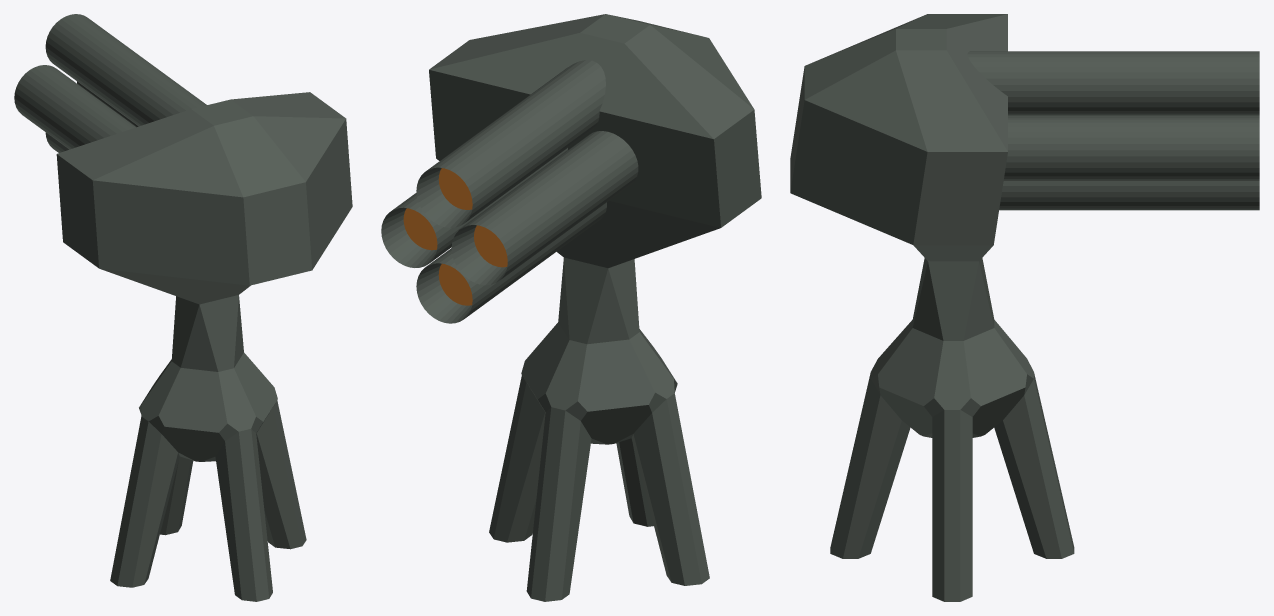
File: Turret2.fbx
3 views of the same model, side by side, from view 1: azimuth 30°, elevation 25°; view 2: azimuth 150°, elevation 25°; view 3: azimuth 270°, elevation 25° (orthographic). The views are drawn at different scales.
Parts seen in each view (by area): view 1: Cube.003, Cube.002, Cube.001; view 2: Cube.003, Cube.002, Cube.001; view 3: Cube.003, Cube.001, Cube.002.
Part boxes in pixels (x1,y1,x2,y2): Cube.003: [56, 92, 352, 304]; Cube.002: [110, 295, 306, 601]; Cube.001: [14, 14, 206, 152]; Cube.003: [429, 14, 761, 268]; Cube.002: [489, 257, 709, 601]; Cube.001: [381, 60, 638, 323]; Cube.003: [790, 14, 1007, 261]; Cube.001: [967, 51, 1259, 210]; Cube.002: [830, 258, 1074, 601].
Bounding box in the file's own units: 203 × 350 × 291.
